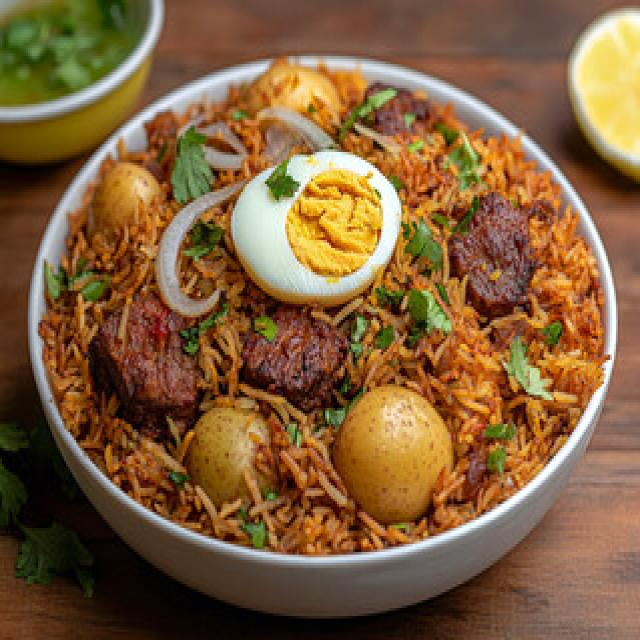BIRIYANI: (42, 65, 603, 551)
